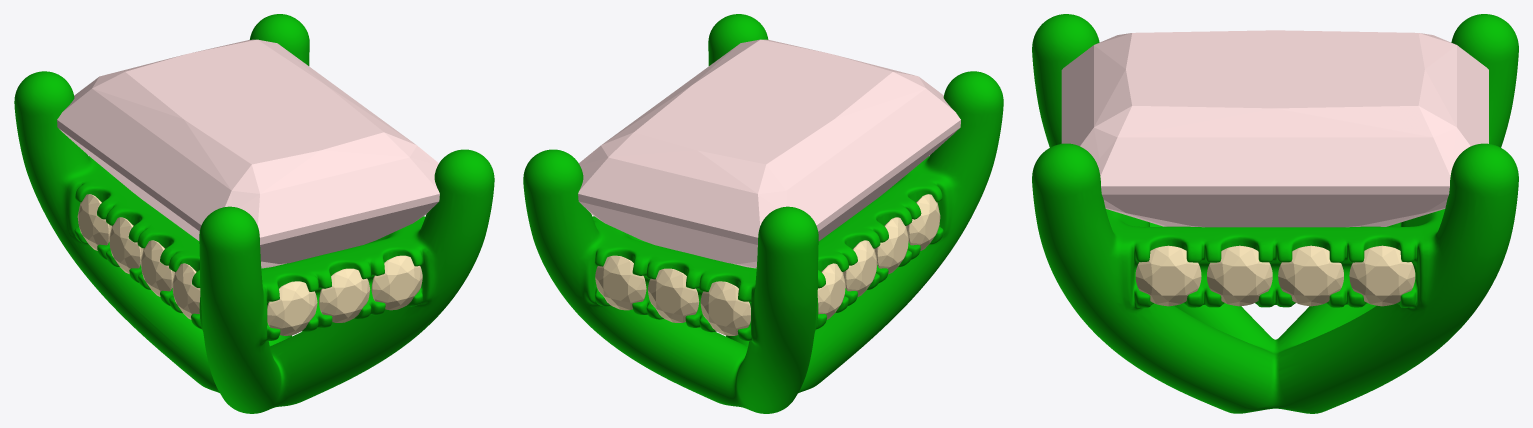
3 renders of one model, left to right at view 1: azimuth 30°, elevation 25°; view 2: azimuth 150°, elevation 25°; view 3: azimuth 270°, elevation 25°, orthographic. The views are drawn at different scales.
Parts seen in each view (by area): view 1: Metal01, Diamond_Radiant, Diamond_Round.009, Diamond_Round.008, Diamond_Round.010, Diamond_Round.001, Diamond_Round, Diamond_Round.003, Diamond_Round.002; view 2: Metal01, Diamond_Radiant, Diamond_Round.012, Diamond_Round.011, Diamond_Round.013, Diamond_Round.003, Diamond_Round.001, Diamond_Round.002, Diamond_Round; view 3: Diamond_Radiant, Metal01, Diamond_Round.006, Diamond_Round.005, Diamond_Round.004, Diamond_Round.007.
Part boxes in pixels (<box>): Metal01: <box>14,14,494,413</box>; Diamond_Radiant: <box>57,39,439,268</box>; Diamond_Round.009: <box>318,268,369,322</box>; Diamond_Round.008: <box>371,255,422,310</box>; Diamond_Round.010: <box>267,281,317,335</box>; Diamond_Round.001: <box>109,217,143,273</box>; Diamond_Round: <box>77,194,111,250</box>; Diamond_Round.003: <box>140,240,174,296</box>; Diamond_Round.002: <box>172,263,200,319</box>; Metal01: <box>523,14,1003,413</box>; Diamond_Radiant: <box>578,39,960,268</box>; Diamond_Round.012: <box>648,268,699,322</box>; Diamond_Round.011: <box>595,255,646,310</box>; Diamond_Round.013: <box>700,281,750,335</box>; Diamond_Round.003: <box>874,217,908,274</box>; Diamond_Round.001: <box>843,240,877,296</box>; Diamond_Round.002: <box>906,194,940,250</box>; Diamond_Round: <box>817,263,845,319</box>; Diamond_Radiant: <box>1061,30,1488,227</box>; Metal01: <box>1032,14,1518,413</box>; Diamond_Round.006: <box>1207,245,1272,306</box>; Diamond_Round.005: <box>1278,245,1343,306</box>; Diamond_Round.004: <box>1349,245,1415,306</box>; Diamond_Round.007: <box>1135,245,1201,306</box>.
Size of the model in its own units: 5.97 by 5.79 by 7.75.
